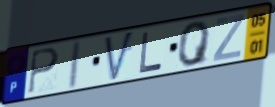I: (66, 38, 83, 92)
L: (138, 31, 164, 75)
P: (27, 46, 60, 97)
Q: (177, 19, 213, 68)
V: (103, 28, 136, 84)
Z: (211, 13, 246, 64)
